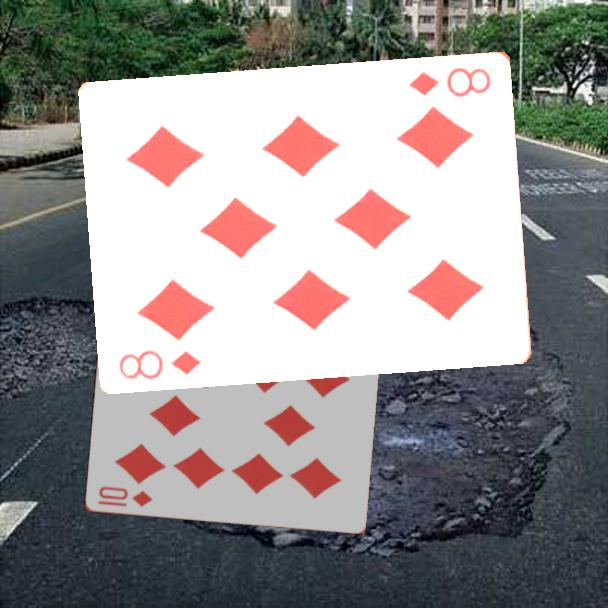d08: (406, 63, 494, 99), (116, 346, 204, 382)
d10: (94, 483, 155, 510)
